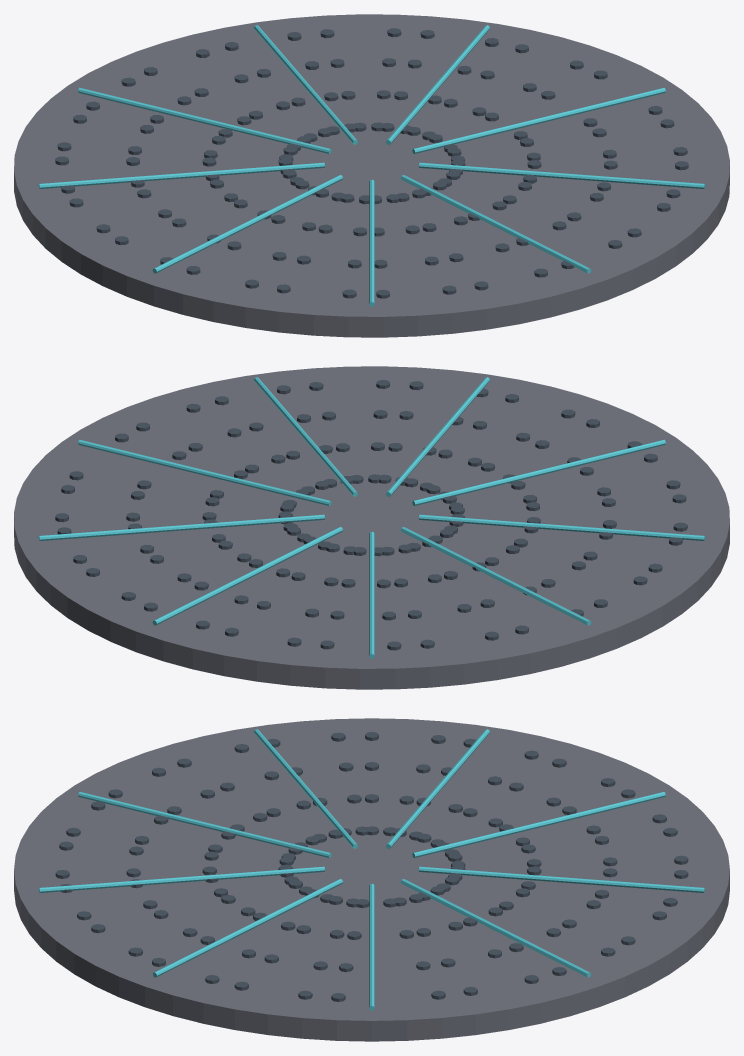
The model's file is 27_L77_SoftLandingPrecisionPad.glb.
The picture shows the model from 3 angles, top to bottom: view 1: azimuth 30°, elevation 25°; view 2: azimuth 150°, elevation 25°; view 3: azimuth 270°, elevation 25°; orthographic projection.
Visible parts, largest first — view 1: SoftLandingPrecisionPad_Node_0000, SoftLandingPrecisionPad_Node_0154, SoftLandingPrecisionPad_Node_0158, SoftLandingPrecisionPad_Node_0153, SoftLandingPrecisionPad_Node_0159, SoftLandingPrecisionPad_Node_0157, SoftLandingPrecisionPad_Node_0155, SoftLandingPrecisionPad_Node_0160, SoftLandingPrecisionPad_Node_0161, SoftLandingPrecisionPad_Node_0156; view 2: SoftLandingPrecisionPad_Node_0000, SoftLandingPrecisionPad_Node_0161, SoftLandingPrecisionPad_Node_0157, SoftLandingPrecisionPad_Node_0153, SoftLandingPrecisionPad_Node_0156, SoftLandingPrecisionPad_Node_0160, SoftLandingPrecisionPad_Node_0158, SoftLandingPrecisionPad_Node_0154, SoftLandingPrecisionPad_Node_0155, SoftLandingPrecisionPad_Node_0159; view 3: SoftLandingPrecisionPad_Node_0000, SoftLandingPrecisionPad_Node_0160, SoftLandingPrecisionPad_Node_0155, SoftLandingPrecisionPad_Node_0159, SoftLandingPrecisionPad_Node_0156, SoftLandingPrecisionPad_Node_0154, SoftLandingPrecisionPad_Node_0161, SoftLandingPrecisionPad_Node_0157, SoftLandingPrecisionPad_Node_0158, SoftLandingPrecisionPad_Node_0153.
Part boxes in pixels (left/top/right/bottom): SoftLandingPrecisionPad_Node_0000: left=14, top=14, right=729, bottom=337; SoftLandingPrecisionPad_Node_0154: left=419, top=162, right=705, bottom=188; SoftLandingPrecisionPad_Node_0158: left=38, top=162, right=324, bottom=188; SoftLandingPrecisionPad_Node_0153: left=412, top=87, right=665, bottom=153; SoftLandingPrecisionPad_Node_0159: left=78, top=87, right=331, bottom=153; SoftLandingPrecisionPad_Node_0157: left=152, top=175, right=342, bottom=273; SoftLandingPrecisionPad_Node_0155: left=401, top=175, right=591, bottom=273; SoftLandingPrecisionPad_Node_0160: left=254, top=25, right=357, bottom=144; SoftLandingPrecisionPad_Node_0161: left=386, top=25, right=489, bottom=144; SoftLandingPrecisionPad_Node_0156: left=369, top=179, right=374, bottom=306; SoftLandingPrecisionPad_Node_0000: left=14, top=366, right=729, bottom=689; SoftLandingPrecisionPad_Node_0161: left=38, top=514, right=324, bottom=540; SoftLandingPrecisionPad_Node_0157: left=419, top=514, right=705, bottom=540; SoftLandingPrecisionPad_Node_0153: left=78, top=439, right=331, bottom=505; SoftLandingPrecisionPad_Node_0156: left=412, top=439, right=665, bottom=505; SoftLandingPrecisionPad_Node_0160: left=152, top=527, right=342, bottom=625; SoftLandingPrecisionPad_Node_0158: left=401, top=527, right=591, bottom=625; SoftLandingPrecisionPad_Node_0154: left=254, top=377, right=357, bottom=496; SoftLandingPrecisionPad_Node_0155: left=386, top=377, right=489, bottom=496; SoftLandingPrecisionPad_Node_0159: left=369, top=531, right=374, bottom=658; SoftLandingPrecisionPad_Node_0000: left=14, top=718, right=729, bottom=1041; SoftLandingPrecisionPad_Node_0160: left=419, top=866, right=704, bottom=892; SoftLandingPrecisionPad_Node_0155: left=39, top=866, right=324, bottom=892; SoftLandingPrecisionPad_Node_0159: left=412, top=792, right=665, bottom=857; SoftLandingPrecisionPad_Node_0156: left=78, top=792, right=331, bottom=857; SoftLandingPrecisionPad_Node_0154: left=153, top=879, right=342, bottom=977; SoftLandingPrecisionPad_Node_0161: left=401, top=879, right=590, bottom=977; SoftLandingPrecisionPad_Node_0157: left=254, top=729, right=357, bottom=848; SoftLandingPrecisionPad_Node_0158: left=386, top=729, right=489, bottom=848; SoftLandingPrecisionPad_Node_0153: left=369, top=883, right=374, bottom=1010.
Size of the model in its own units: 2.82 by 0.118 by 2.82.
